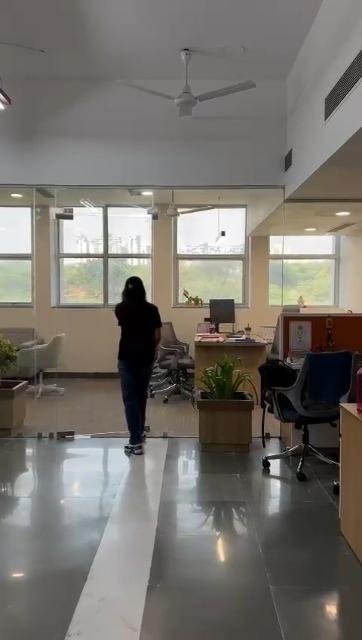floor: (2, 482, 342, 640)
moving-obj: (102, 250, 188, 460)
object: (264, 346, 358, 478), (200, 366, 255, 480), (152, 321, 200, 399), (0, 332, 30, 436), (22, 336, 66, 400), (206, 294, 242, 338), (0, 325, 40, 363)
wall: (63, 304, 116, 378), (32, 214, 52, 330), (249, 204, 269, 316), (338, 214, 361, 306), (157, 216, 173, 302)
